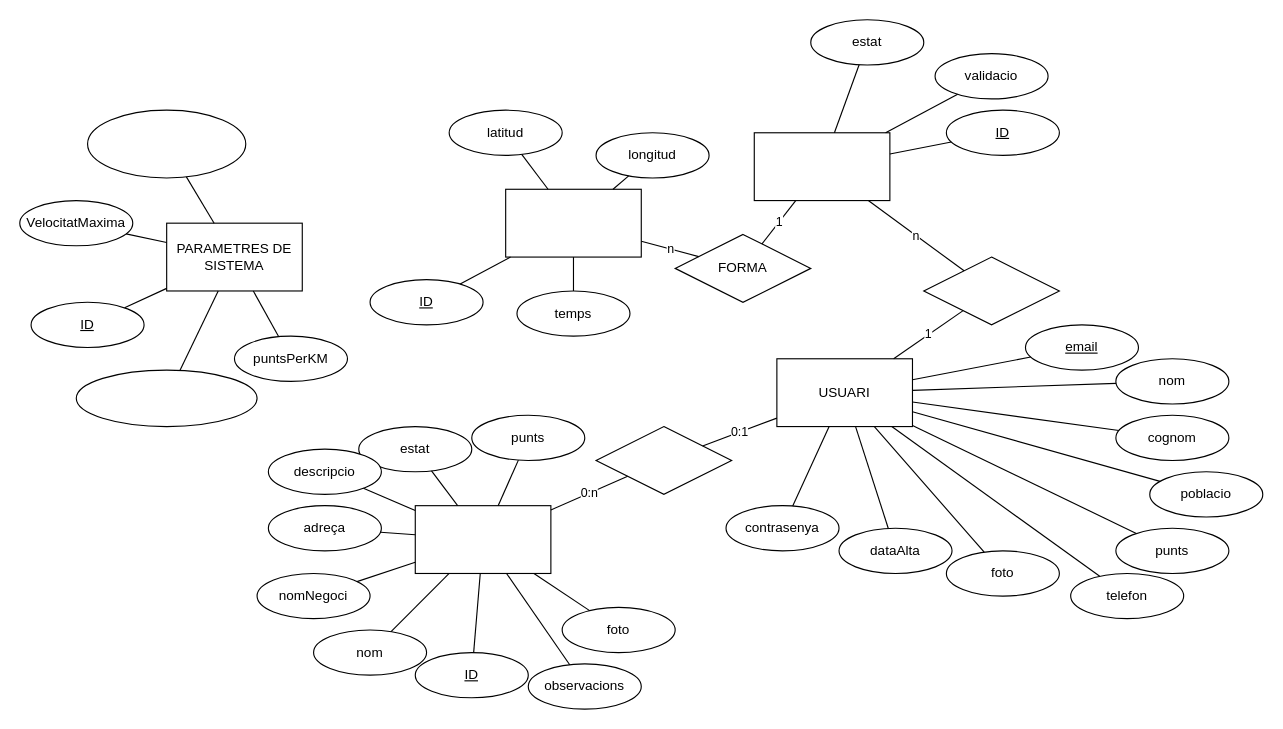
This 1283x729 diagram has some shape labels left out. The shapes that lost their labels are listed below. From the top down, each one's centre as x and y in pixels, then its label:
At pixel 166 143: "TempsMaximAturada".
At pixel 821 166: "RUTA".
At pixel 573 222: "PUNTS GPS".
At pixel 991 290: "RECORRE".
At pixel 166 398: "tempsMaximRecollida".
At pixel 663 459: "RECLAMA".
At pixel 482 539: "RECOMPENSA".
